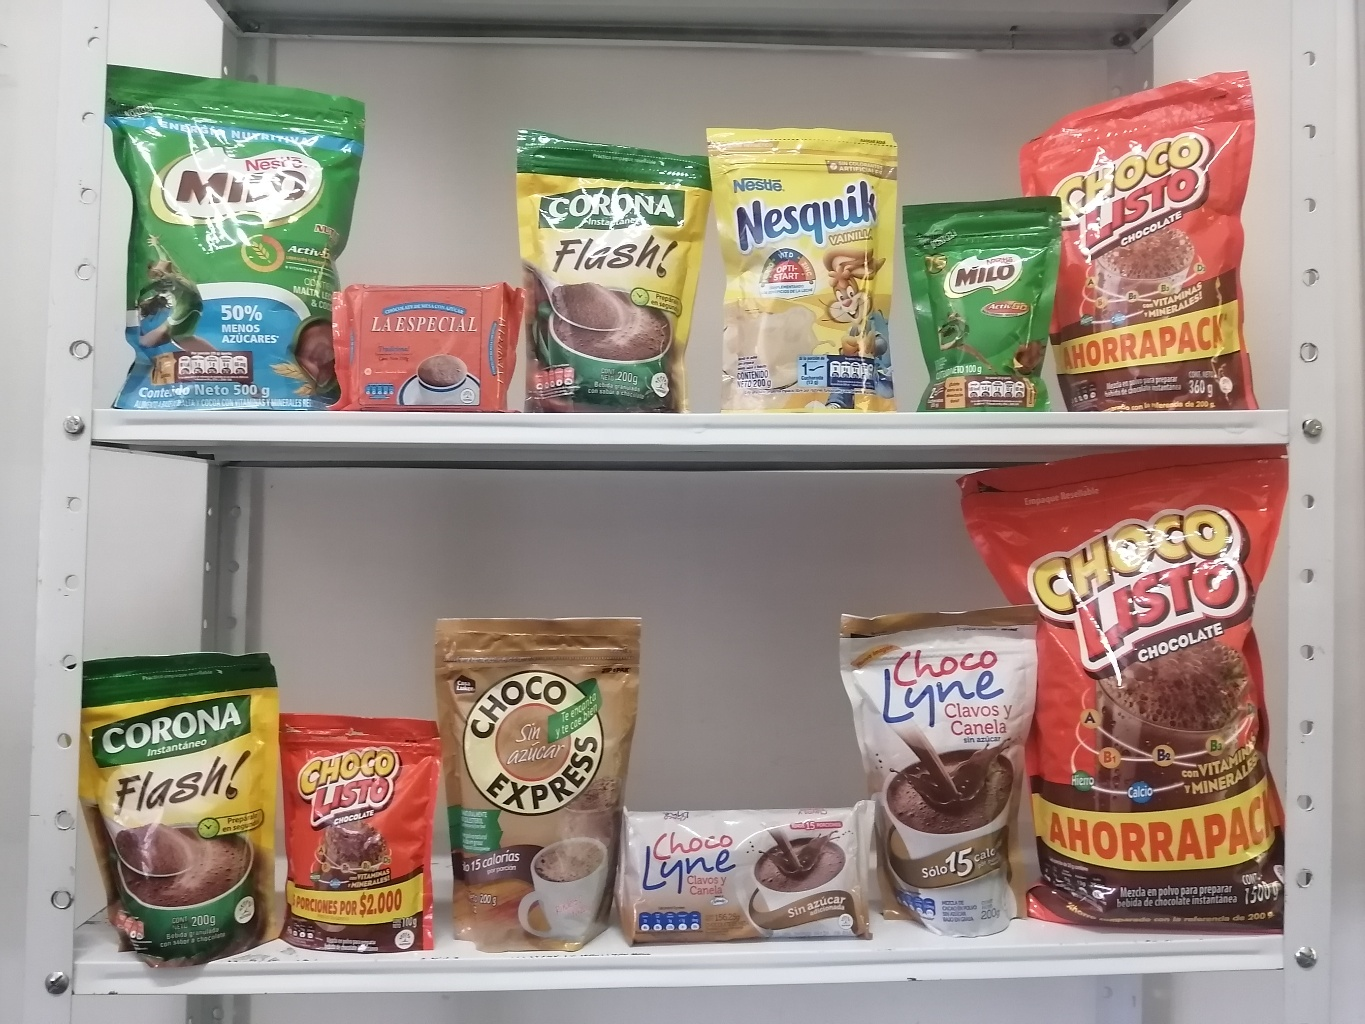COL0170103DYP1,500: (947, 437, 1322, 942)
COL0170103DYP36000: (1010, 65, 1281, 424)
COL0170203DYP10000: (876, 183, 1071, 424)
COL0170205DYP50000: (85, 51, 374, 419)
COL0170306DYP20000: (683, 106, 910, 421)
